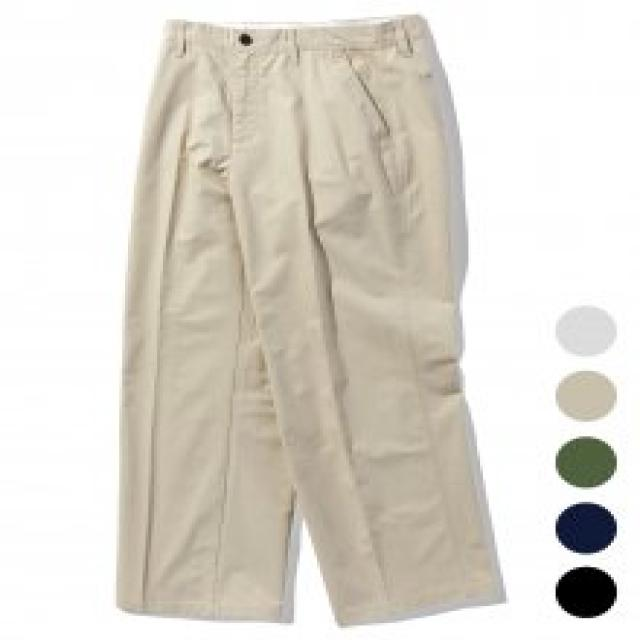long-pants: (116, 17, 512, 629)
